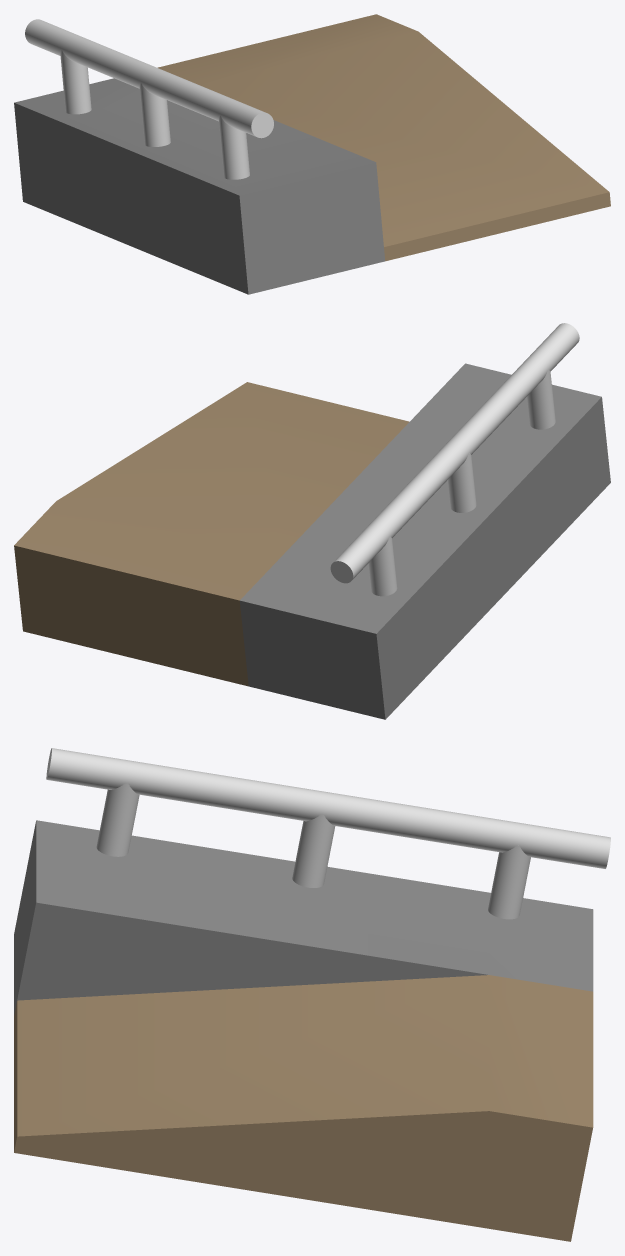
The model's file is Rampa pequeña.fbx.
3 views of the same model, one above another, from view 1: azimuth 30°, elevation 25°; view 2: azimuth 150°, elevation 25°; view 3: azimuth 270°, elevation 25° (orthographic). The views are drawn at different scales.
Visible parts, largest first — view 1: Rampa pequeña; view 2: Rampa pequeña; view 3: Rampa pequeña.
Part boxes in pixels (x1,y1,x2,y2): Rampa pequeña: (14,14,610,294); Rampa pequeña: (14,323,610,719); Rampa pequeña: (14,748,610,1241).
Size of the model in its own units: 183 by 114 by 211.
